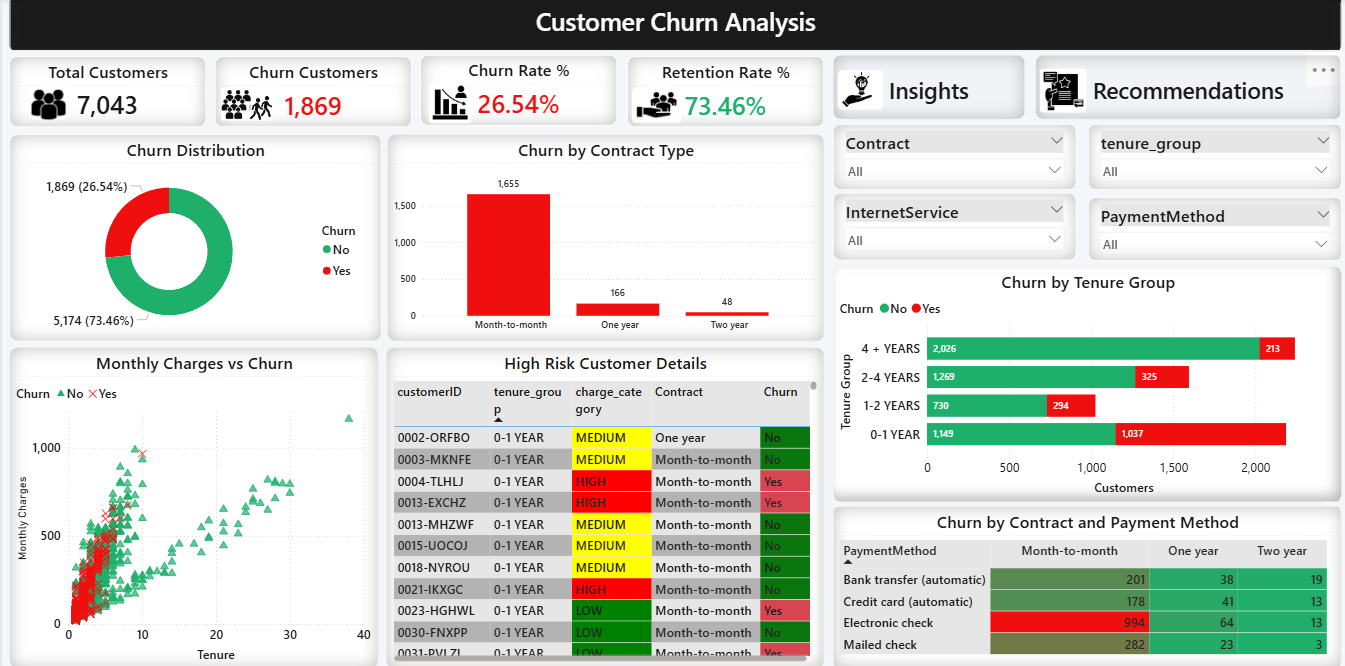

Layout of this report page (visuals, bound fields, positions):
{"tool":"powerbi","page":{"name":"Dashboard","canvas":[1750,880],"ordinal":0},"visuals":[{"type":"card","title":"Total Customers","fields":{"Values":["cleaned_customer_churn.Total_Customers"]},"box":[9.7,75.8,254.7,91.4],"z":0,"group":"g1"},{"type":"card","title":"Churn Customers","fields":{"Values":["cleaned_customer_churn.churn_customer"]},"box":[276.1,75.8,254.7,91.4],"z":0},{"type":"card","title":"Churn Rate %","fields":{"Values":["cleaned_customer_churn.Churn_Rate%"]},"box":[542.4,73.9,254.7,91],"z":1000},{"type":"donutChart","title":"Churn Distribution","fields":{"Category":["cleaned_customer_churn.Churn"],"Y":["CountNonNull(cleaned_customer_churn.customerID)"]},"box":[9.7,176.9,482.1,268.3],"z":2000},{"type":"clusteredColumnChart","title":"Churn by Contract Type","fields":{"Category":["cleaned_customer_churn.Contract"],"Y":["cleaned_customer_churn.churn_customer"]},"box":[499.6,176.9,565.7,268.3],"z":3000},{"type":"card","title":"Retention Rate %","fields":{"Values":["cleaned_customer_churn.Retention_Rate%"]},"box":[810.7,75.8,254.7,91.4],"z":4000},{"type":"barChart","title":"Churn by Tenure Group","fields":{"Category":["cleaned_customer_churn.tenure_group"],"Series":["cleaned_customer_churn.Churn"],"Y":["cleaned_customer_churn.Total_Customers"]},"box":[1077,348,661,305.2],"z":5000},{"type":"scatterChart","title":"Monthly Charges vs Churn","fields":{"Series":["cleaned_customer_churn.Churn"],"X":["Count(cleaned_customer_churn.tenure)"],"Category":["cleaned_customer_churn.MonthlyCharges"],"Y":["Sum(cleaned_customer_churn.MonthlyCharges)"]},"box":[9.7,453,478.2,416],"z":6000},{"type":"pivotTable","title":"Churn by Contract and Payment Method","fields":{"Values":["cleaned_customer_churn.churn_customer"],"Columns":["cleaned_customer_churn.Contract"],"Rows":["cleaned_customer_churn.PaymentMethod"]},"box":[1077.5,660,660,210],"z":7000},{"type":"tableEx","title":"High Risk Customer Details","fields":{"Values":["cleaned_customer_churn.customerID","cleaned_customer_churn.tenure_group","cleaned_customer_churn.charge_category","cleaned_customer_churn.Contract","cleaned_customer_churn.Churn"]},"box":[497.7,453,567.7,416],"z":8000},{"type":"slicer","fields":{"Values":["cleaned_customer_churn.Contract"]},"box":[1077.5,162.5,315,85],"z":9000},{"type":"slicer","fields":{"Values":["cleaned_customer_churn.InternetService"]},"box":[1077.5,252.5,315,87.5],"z":10000},{"type":"slicer","fields":{"Values":["cleaned_customer_churn.tenure_group"]},"box":[1407.5,162.5,330,85],"z":11000},{"type":"slicer","fields":{"Values":["cleaned_customer_churn.PaymentMethod"]},"box":[1408,258,330,82],"z":12000},{"type":"textbox","title":"kfkfkffkfldldlfl","box":[10,0,1727.5,67.5],"z":13000},{"type":"actionButton","box":[1339.5,73.9,396.6,83.6],"z":14000},{"type":"actionButton","box":[1077,73.9,248.8,83.6],"z":15000,"group":"g2"},{"type":"group","id":"g1","title":"Group 1","box":[9.7,75.8,254.7,91.4],"z":15000},{"type":"group","id":"g2","title":"Group 3","box":[1077,73.9,248.8,83.6],"z":16000},{"type":"image","box":[34.5,118,50.8,39.9],"z":17000},{"type":"image","box":[284,111,67,54],"z":18000},{"type":"image","box":[551,111,61,52],"z":19000},{"type":"image","box":[816,112,64,52],"z":20000},{"type":"image","box":[1341.2,91.4,68,57.4],"z":21000},{"type":"image","box":[1083.4,90.9,59.5,55.3],"z":21001,"group":"g2"}]}

Visuals, with their boxes in screenshot pixels (x1, y1, x2, y2), scaled from the page's 1750x880 canvas onto the 1345x666 screenshot:
"Total Customers" card: (x1=7, y1=57, x2=203, y2=127)
"Churn Customers" card: (x1=212, y1=57, x2=408, y2=127)
"Churn Rate %" card: (x1=417, y1=56, x2=613, y2=125)
"Churn Distribution" donutChart: (x1=7, y1=134, x2=378, y2=337)
"Churn by Contract Type" clusteredColumnChart: (x1=384, y1=134, x2=819, y2=337)
"Retention Rate %" card: (x1=623, y1=57, x2=819, y2=127)
"Churn by Tenure Group" barChart: (x1=828, y1=263, x2=1336, y2=494)
"Monthly Charges vs Churn" scatterChart: (x1=7, y1=343, x2=375, y2=658)
"Churn by Contract and Payment Method" pivotTable: (x1=828, y1=500, x2=1335, y2=658)
"High Risk Customer Details" tableEx: (x1=383, y1=343, x2=819, y2=658)
slicer - cleaned_customer_churn.Contract: (x1=828, y1=123, x2=1070, y2=187)
slicer - cleaned_customer_churn.InternetService: (x1=828, y1=191, x2=1070, y2=257)
slicer - cleaned_customer_churn.tenure_group: (x1=1082, y1=123, x2=1335, y2=187)
slicer - cleaned_customer_churn.PaymentMethod: (x1=1082, y1=195, x2=1336, y2=257)
"kfkfkffkfldldlfl" textbox: (x1=8, y1=0, x2=1335, y2=51)
actionButton: (x1=1030, y1=56, x2=1334, y2=119)
actionButton: (x1=828, y1=56, x2=1019, y2=119)
"Group 1" group: (x1=7, y1=57, x2=203, y2=127)
"Group 3" group: (x1=828, y1=56, x2=1019, y2=119)
image: (x1=27, y1=89, x2=66, y2=120)
image: (x1=218, y1=84, x2=270, y2=125)
image: (x1=423, y1=84, x2=470, y2=123)
image: (x1=627, y1=85, x2=676, y2=124)
image: (x1=1031, y1=69, x2=1083, y2=113)
image: (x1=833, y1=69, x2=878, y2=111)
